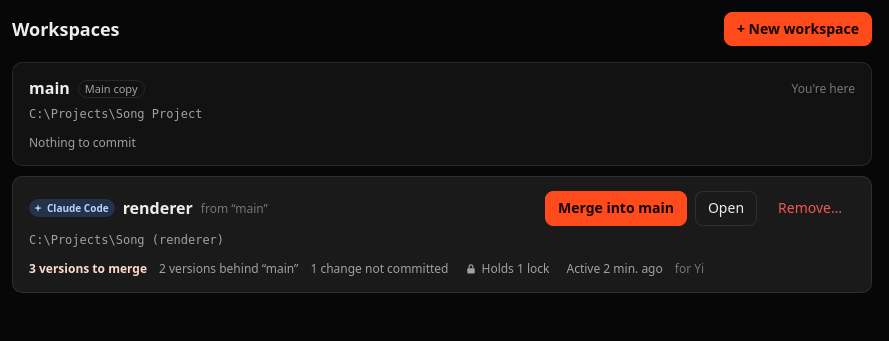
Test case: The Agents view › lists each workspace with what it has to merge, its changes, its locks and when it was last active
This screenshot has width=889, height=341.
Expected: the text "3 versions to merge" is shown, [29,260,147,277]
Expected: the text "2 versions behind “main”" is shown, [159,260,298,277]
Click the button "Holds 1 lock": (508, 269) [460,259,554,278]
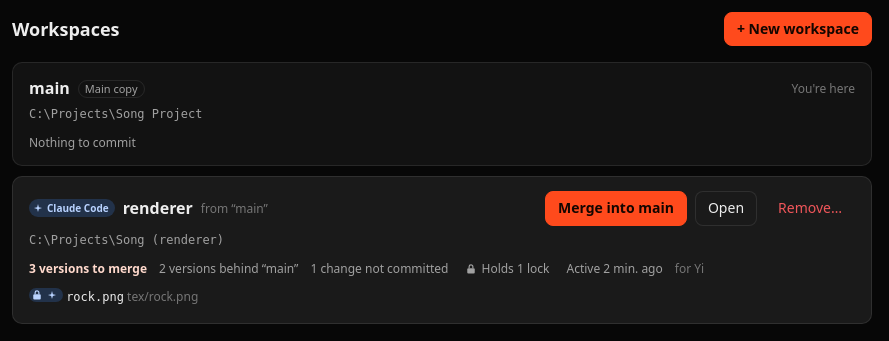
Expected: the text "tex/rock.png" is shown, [127,288,198,305]
